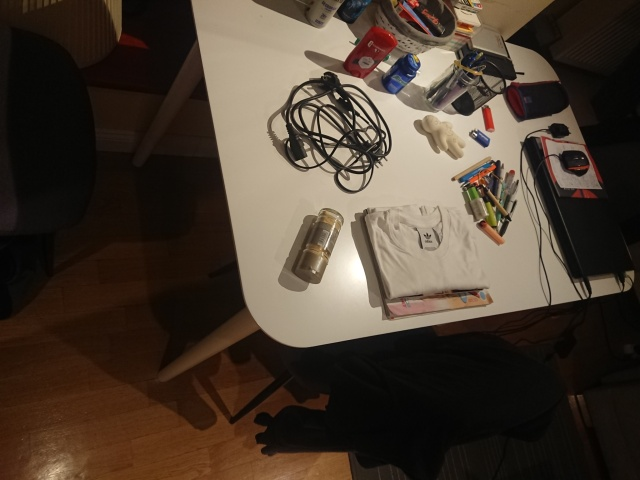Kotanyi Garlic Granules 70g: (293, 206, 346, 286)
